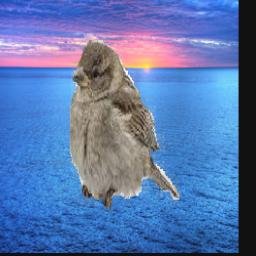Sparrow: (69, 41, 178, 222)
